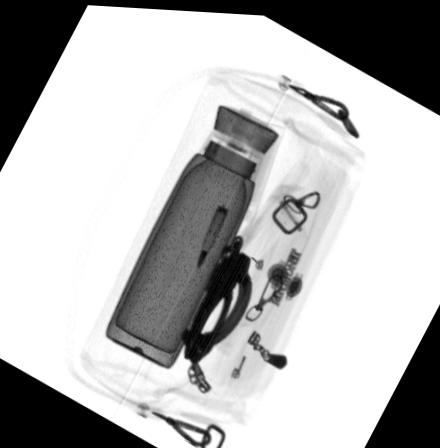Bullet: (197, 201, 228, 265)
HandCuffs: (179, 230, 253, 363)
